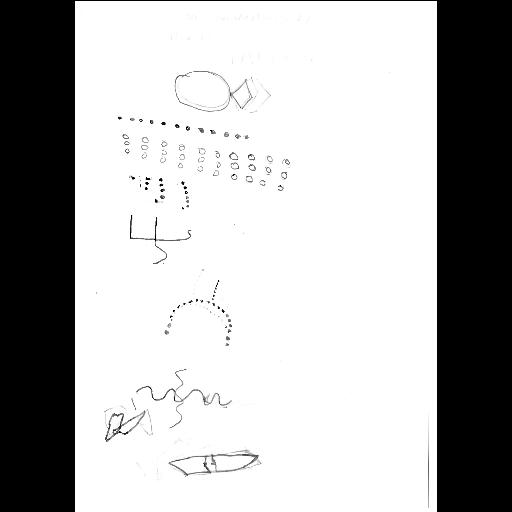shape-1: (176, 68, 252, 112)
shape-2: (117, 114, 251, 140)
shape-3: (122, 132, 290, 190)
shape-4: (130, 174, 190, 212)
shape-5: (130, 214, 192, 264)
shape-6: (163, 279, 233, 347)
shape-7: (135, 367, 233, 427)
shape-8: (102, 410, 144, 442)
shape-9: (168, 451, 260, 477)
